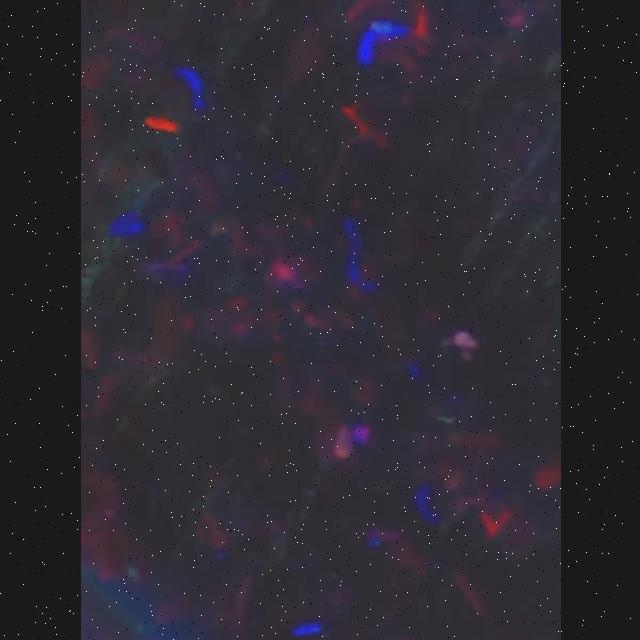Fragment: (340, 105, 386, 148)
